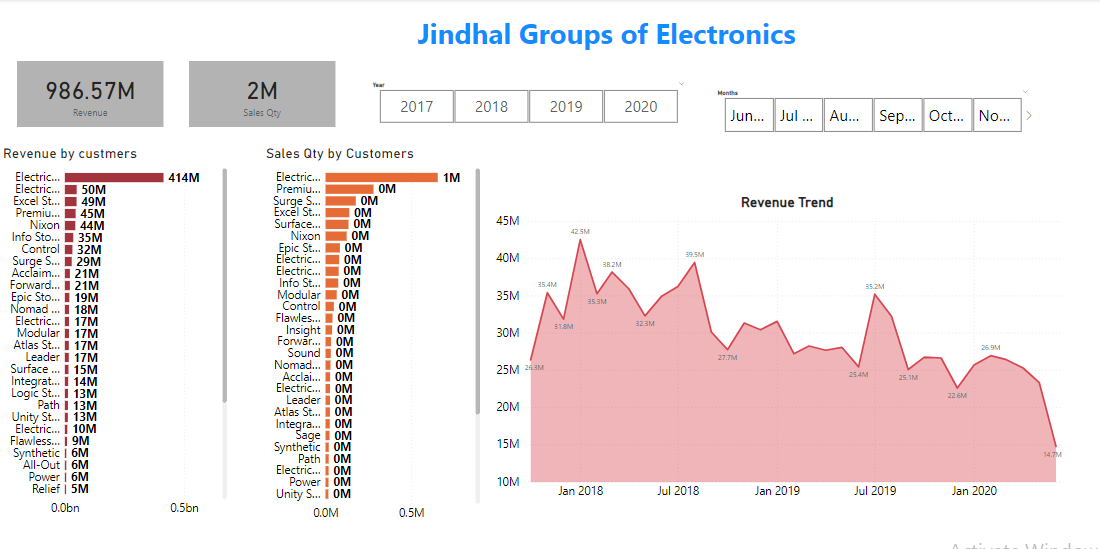

What the dashboard file says about the page in this screenshot:
{"tool":"powerbi","page":{"name":"Dashobard1 ","canvas":[1900,950],"ordinal":0},"visuals":[{"type":"card","fields":{"Values":["Base Measure.Revenue"]},"box":[28.5,106.4,252.7,114],"z":0},{"type":"card","fields":{"Values":["Base Measure.Sales Qty"]},"box":[326.8,106.4,252.7,114],"z":1000},{"type":"barChart","title":"Revenue by custmers","fields":{"Y":["Base Measure.Revenue"],"Category":["sales customers.custmer_name"]},"box":[0,252.7,397.1,651.7],"z":2000},{"type":"barChart","title":"Sales Qty by Customers ","fields":{"Y":["Base Measure.Sales Qty"],"Category":["sales customers.custmer_name"]},"box":[454.1,252.7,380,659.3],"z":3000},{"type":"slicer","fields":{"Values":["sales date.year"]},"box":[630.8,136.8,564.3,83.6],"z":4000},{"type":"slicer","fields":{"Values":["sales date.cy_date"]},"box":[1225.5,150.1,562.4,85.5],"z":5000},{"type":"lineChart","title":"Revenue Trend ","fields":{"Y":["Base Measure.Revenue"],"Category":["sales date.cy_date.Variation.Date Hierarchy.Year","sales date.cy_date.Variation.Date Hierarchy.Quarter","sales date.cy_date.Variation.Date Hierarchy.Month","sales date.cy_date.Variation.Date Hierarchy.Day"]},"box":[851.2,336.3,1016.5,537.7],"z":8000},{"type":"textbox","box":[528.2,20.9,1050.7,85.5],"z":9000}]}

Visuals, with their boxes on the page's 1900x950 design canvas (x1, y1, x2, y2). These are canvas units, not pixel positions in the 1100x549 screenshot, which may show the page scaled, cropped or inside an application window:
card - Base Measure.Revenue: {"x1": 28, "y1": 106, "x2": 281, "y2": 220}
card - Base Measure.Sales Qty: {"x1": 327, "y1": 106, "x2": 580, "y2": 220}
"Revenue by custmers" barChart: {"x1": 0, "y1": 253, "x2": 397, "y2": 904}
"Sales Qty by Customers " barChart: {"x1": 454, "y1": 253, "x2": 834, "y2": 912}
slicer - sales date.year: {"x1": 631, "y1": 137, "x2": 1195, "y2": 220}
slicer - sales date.cy_date: {"x1": 1226, "y1": 150, "x2": 1788, "y2": 236}
"Revenue Trend " lineChart: {"x1": 851, "y1": 336, "x2": 1868, "y2": 874}
textbox: {"x1": 528, "y1": 21, "x2": 1579, "y2": 106}
